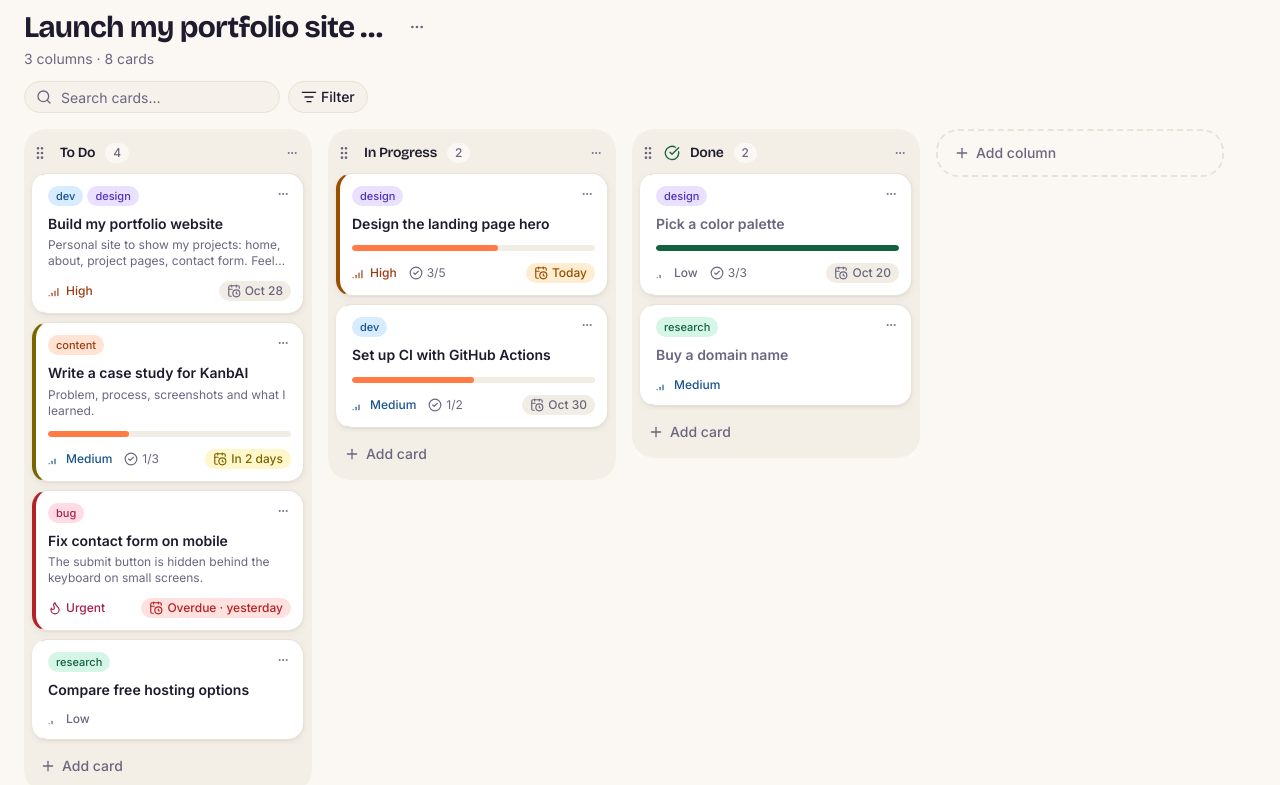
Test: board search and filters › tells you when a new card is hidden by the filters
Type "landing" into the search field labelled "Search cards" at point(152, 97), box [24,81,280,113]
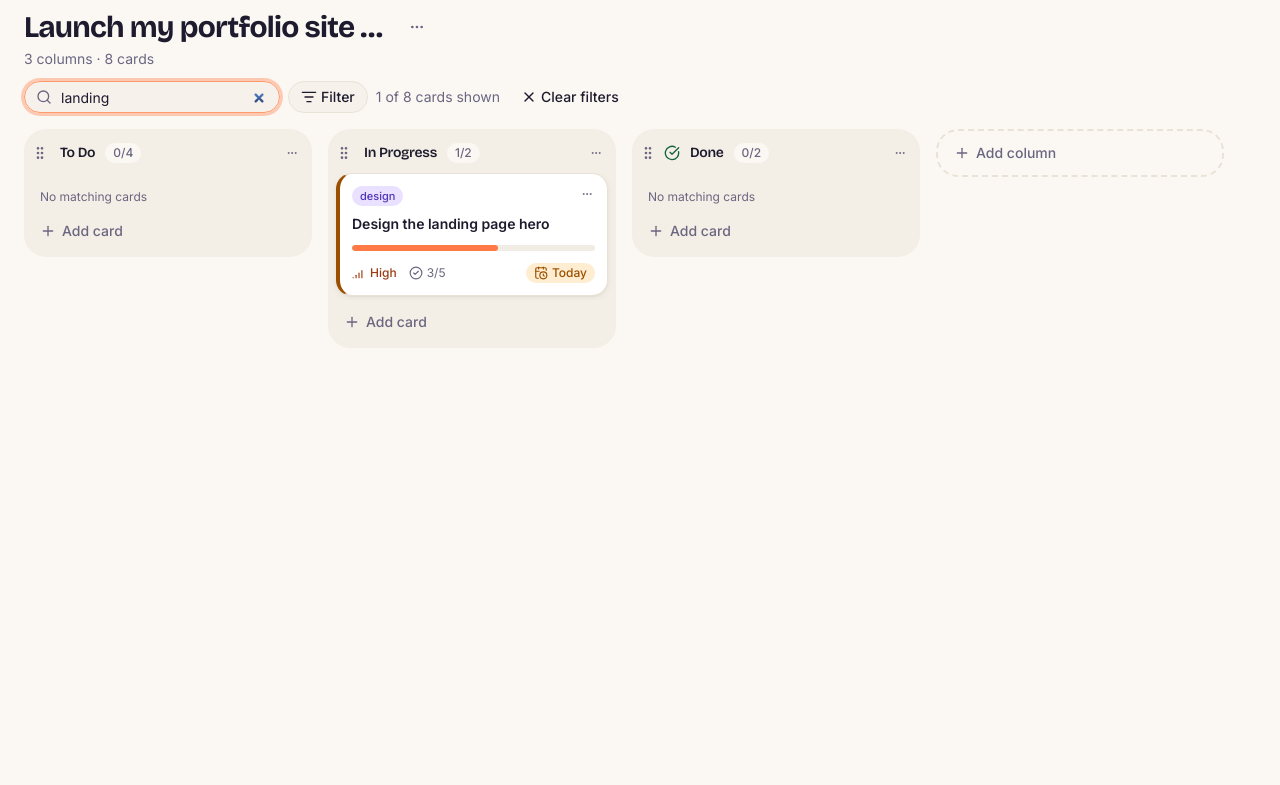
Click the 1st button "Add card" at point(92, 230), box [32,213,304,249]
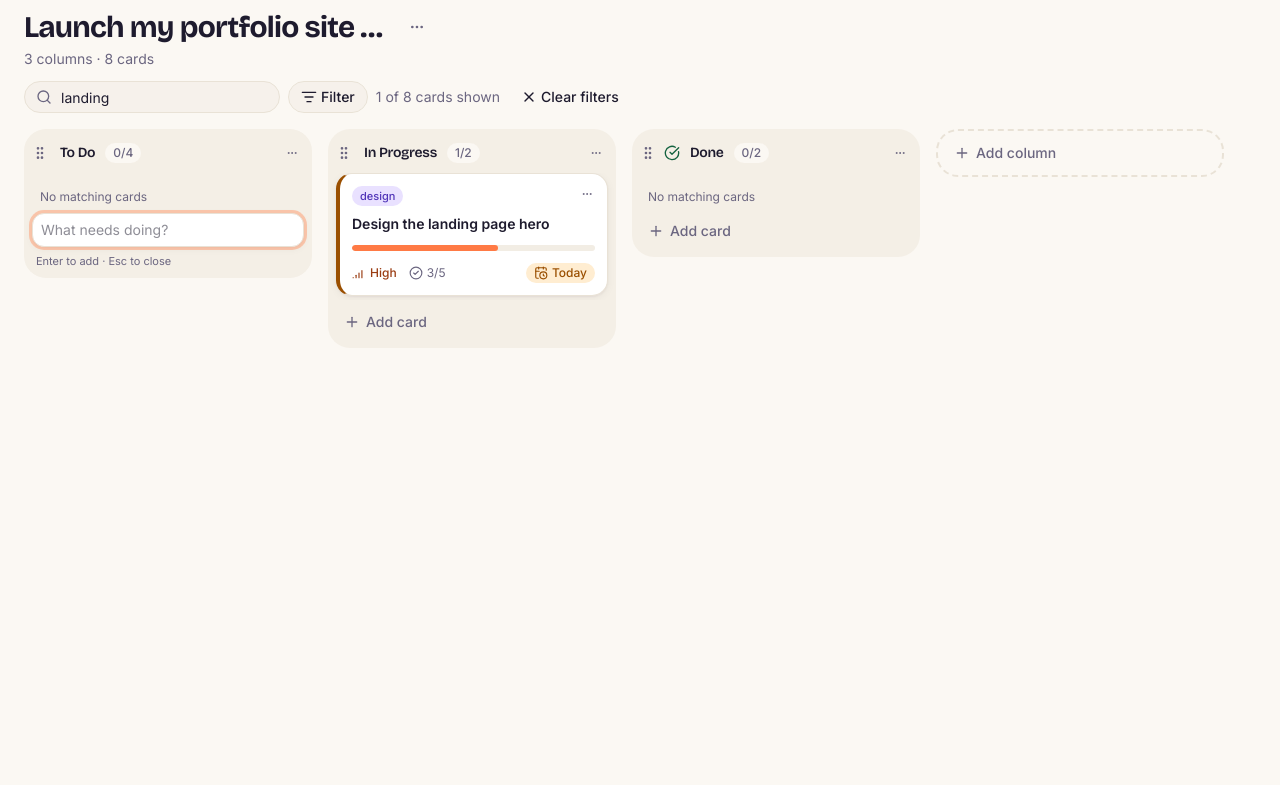
Type "Ship it" into the field named "New card title in To Do" at point(168, 230), box [32,213,304,247]
Then press Enter
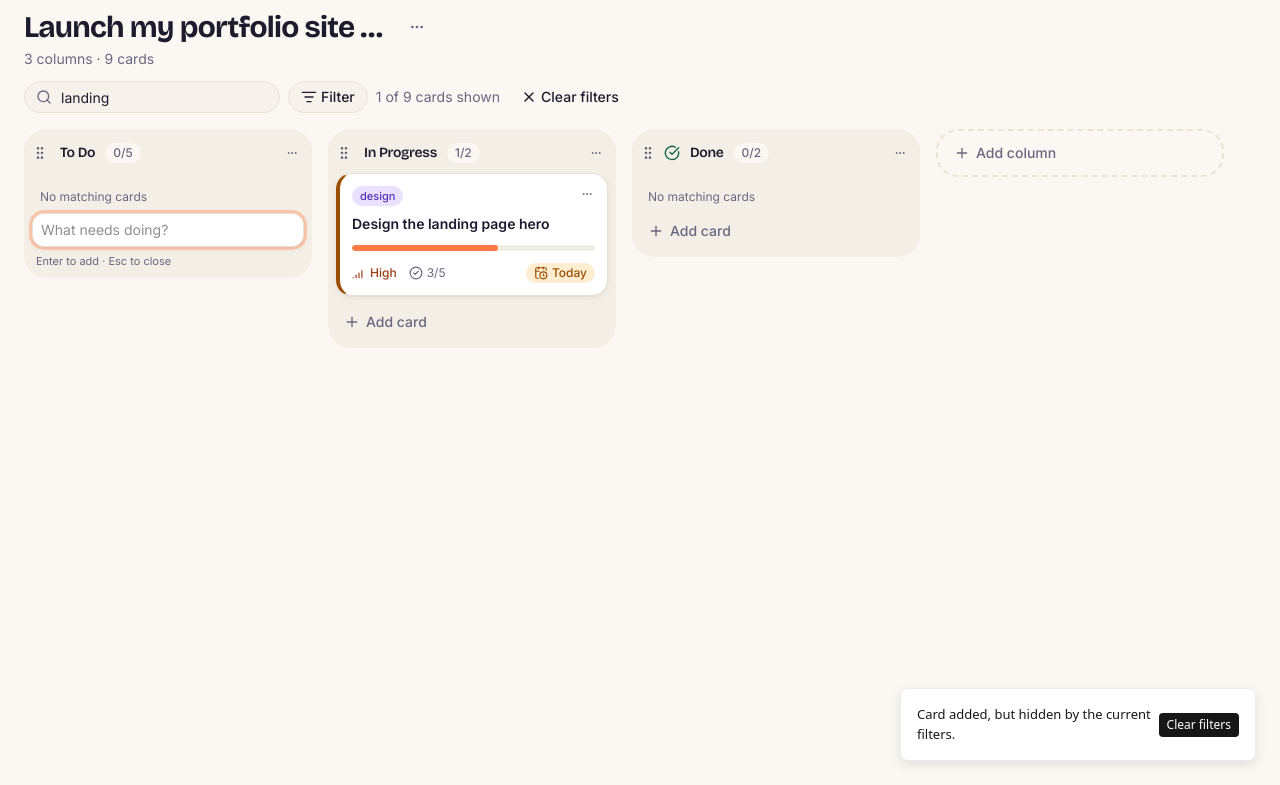
Expected: the text "Card added, but hidden by the current filters." is shown, [917,705,1153,744]
Click the 2nd button "Clear filters" at point(1199, 724), box [1159,712,1239,736]
(page scrolled)
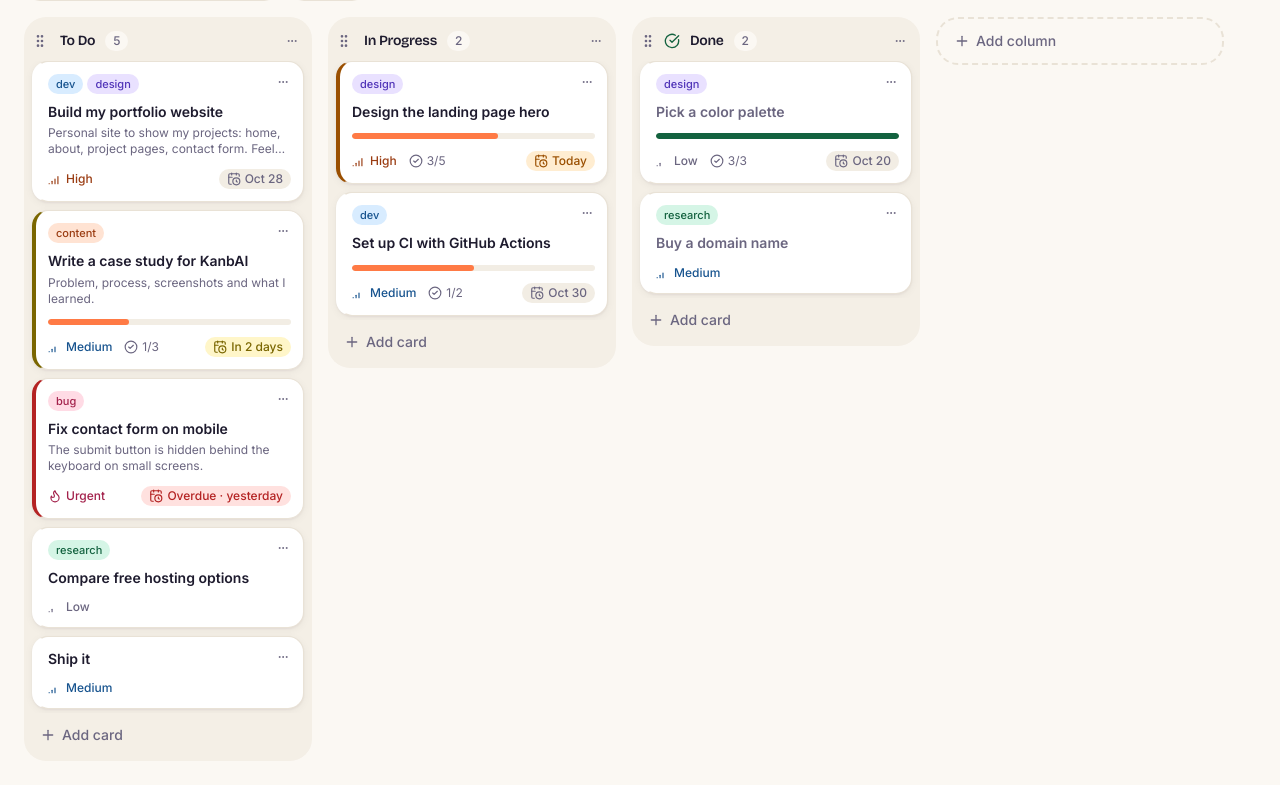
Expected: the button "Ship it Medium" is shown, [32,636,304,709]
